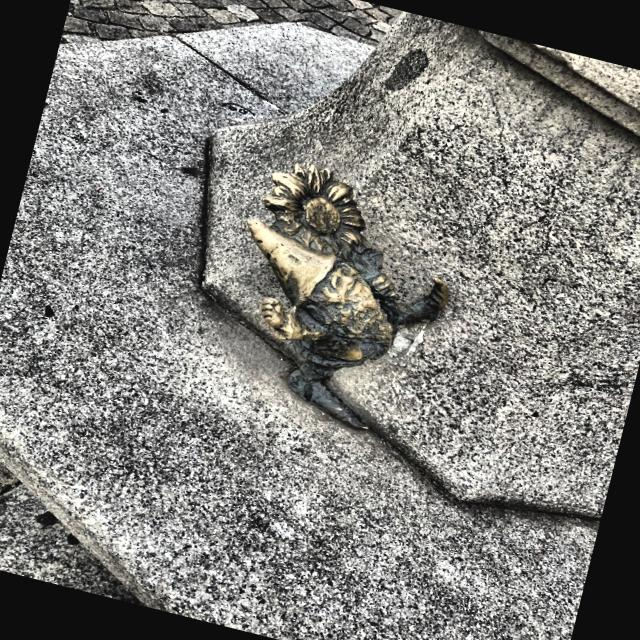Zyczliwek: (247, 165, 448, 428)
